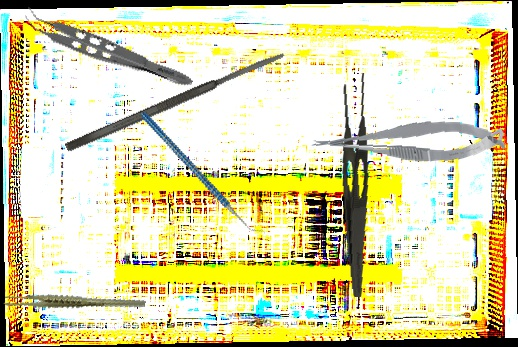Chopper: (140, 87, 266, 260)
Dressing Forceps: (331, 72, 388, 298)
Micro Scissor: (310, 111, 508, 168)
Spatula Surgical: (63, 49, 288, 154)
Tissue Forceps: (19, 4, 199, 92), (2, 270, 147, 335)
